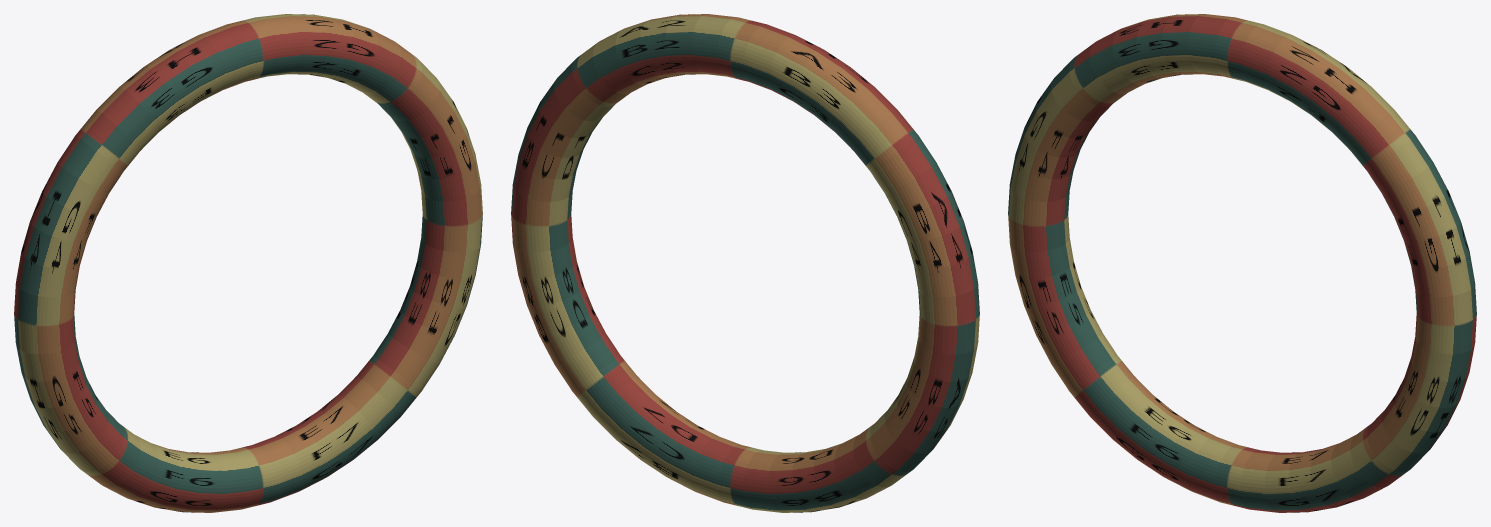
The model's file is texture_torus_R21_r4.glb.
3 renders of one model, left to right at view 1: azimuth 30°, elevation 25°; view 2: azimuth 150°, elevation 25°; view 3: azimuth 330°, elevation 25°, orthographic.
Visible parts, largest first — view 1: world; view 2: world; view 3: world.
Boxes of the visible parts, <box> form: world: <box>14,14,482,512</box>; world: <box>511,14,979,512</box>; world: <box>1008,14,1476,512</box>.
Size of the model in its own units: 27.07 by 27.01 by 3.06.
1 material, 1 textured.
